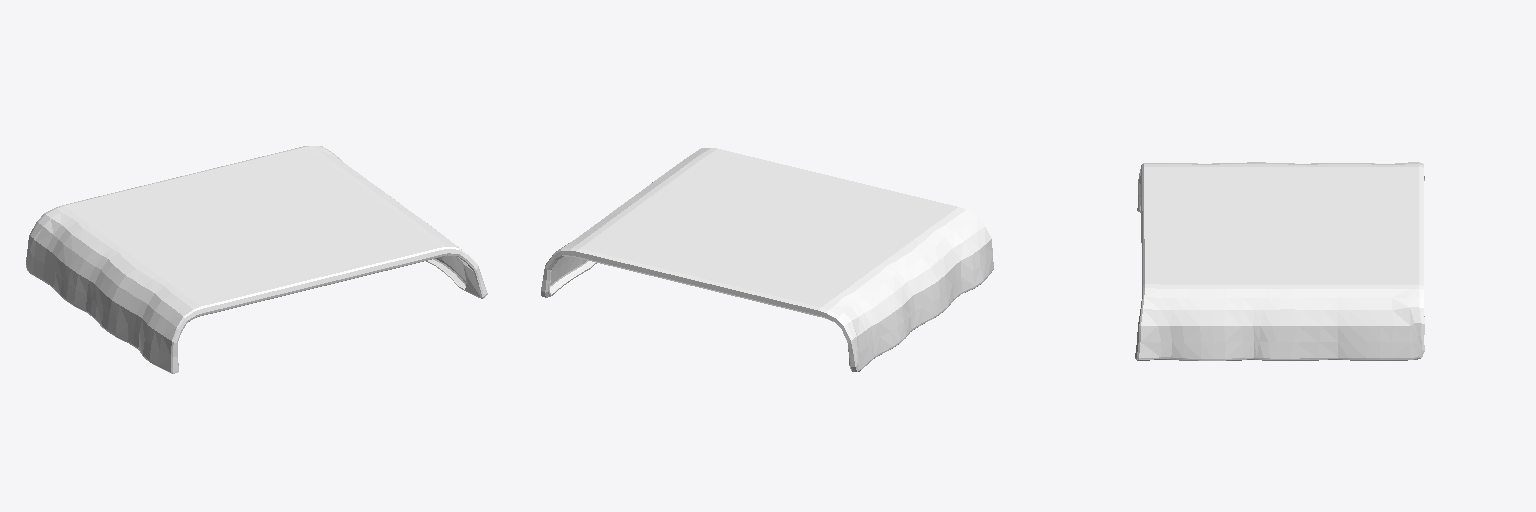
3 renders of one model, left to right at view 1: azimuth 30°, elevation 25°; view 2: azimuth 150°, elevation 25°; view 3: azimuth 270°, elevation 25°, orthographic.
Visible parts, largest first — view 1: aws_Quilt_01_visualMesh; view 2: aws_Quilt_01_visualMesh; view 3: aws_Quilt_01_visualMesh.
Boxes of the visible parts, x1,y1,x2,y2 form: aws_Quilt_01_visualMesh: [26, 146, 487, 373]; aws_Quilt_01_visualMesh: [541, 148, 993, 371]; aws_Quilt_01_visualMesh: [1135, 162, 1424, 360].
Bounding box in the file's own units: 2.04 × 0.3526 × 1.59.